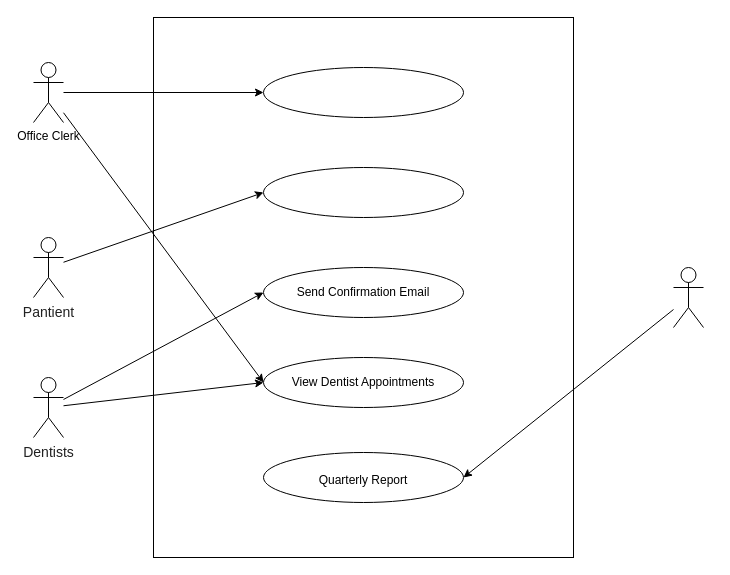
This 730x575 diagram has some shape labels left out. The centre of each missing label's shape, as x and y in pixels:
Book appointments: (x=363, y=92)
Director: (x=688, y=297)
Manage appointments: (x=363, y=192)
